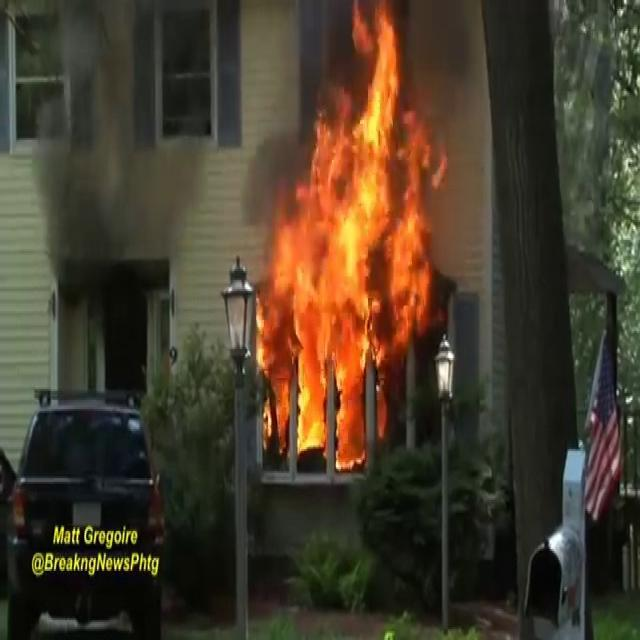Fire: (256, 2, 440, 462)
Smoke: (19, 0, 192, 291)
